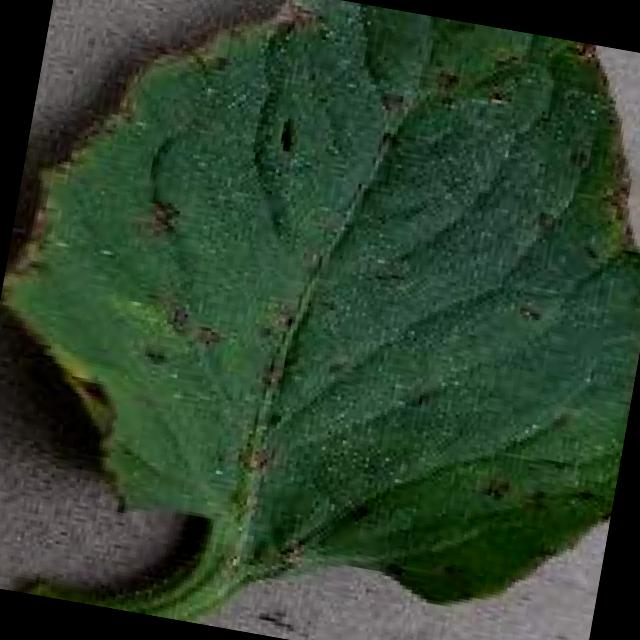bacterial spot: (1, 0, 640, 622)
